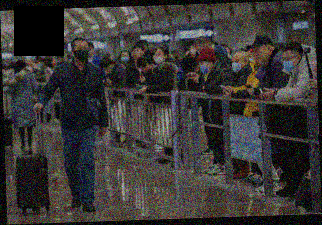mask_weared_incorrect: (154, 50, 165, 64)
with_mask: (281, 53, 297, 72), (73, 44, 90, 61), (231, 56, 243, 73), (199, 60, 210, 74), (120, 52, 130, 64), (189, 45, 197, 55)
without_mask: (254, 45, 270, 63), (132, 47, 143, 59), (139, 65, 150, 74), (104, 66, 113, 74)
